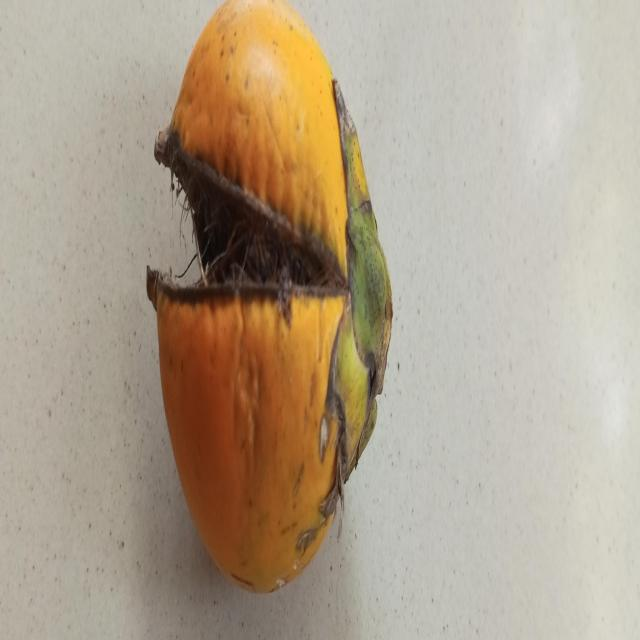damaged: (145, 1, 392, 597), (154, 0, 393, 474)
